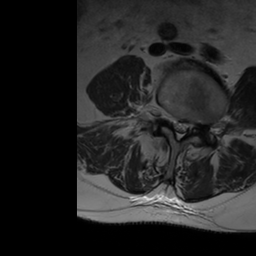CCS_normal: (176, 114, 183, 145)
LFS_severe_stenosis: (191, 115, 199, 133)
LLS_stenosis: (183, 116, 191, 139)
RFS_normal: (162, 100, 169, 125)
RLS_normal: (168, 112, 176, 137)
